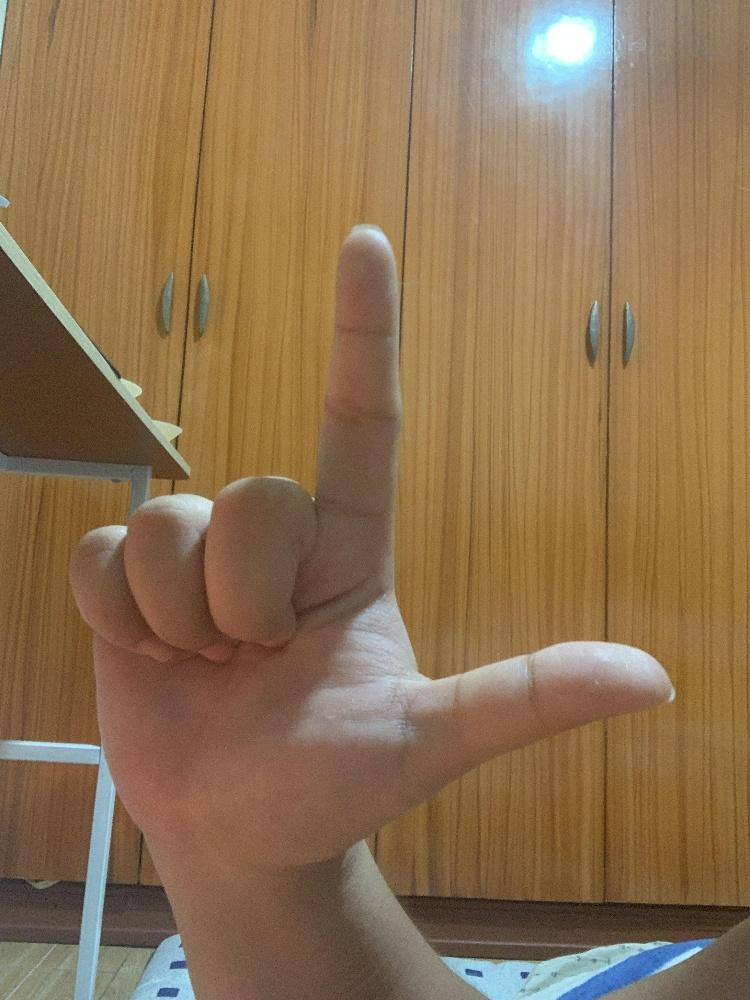l: (62, 219, 677, 867)
